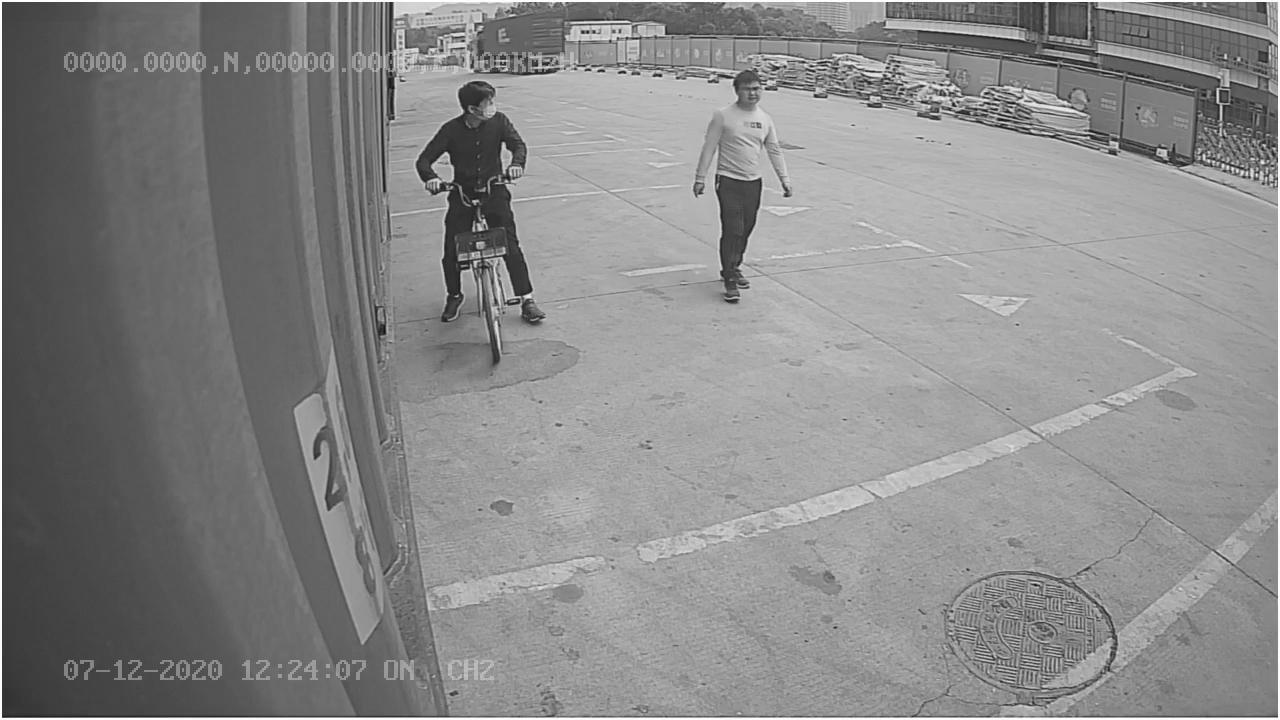person: (690, 64, 798, 304)
